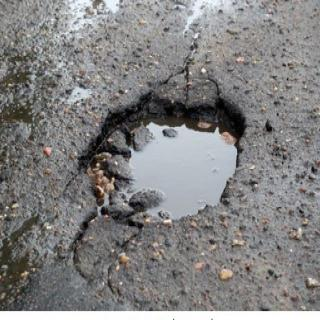pothole: (78, 67, 246, 224)
